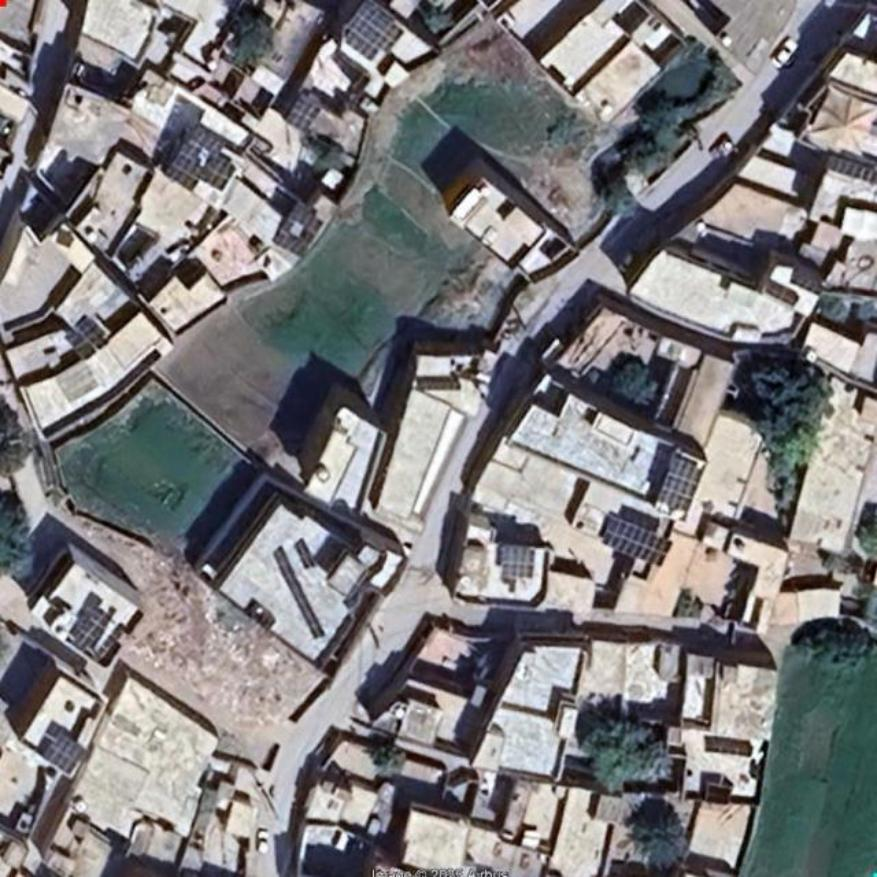Solarpanel: (340, 0, 405, 62), (164, 124, 223, 192), (654, 454, 706, 518), (604, 519, 673, 565), (274, 202, 323, 256), (67, 317, 108, 360), (45, 732, 85, 776), (825, 154, 876, 185), (285, 94, 322, 131), (499, 547, 535, 578)
